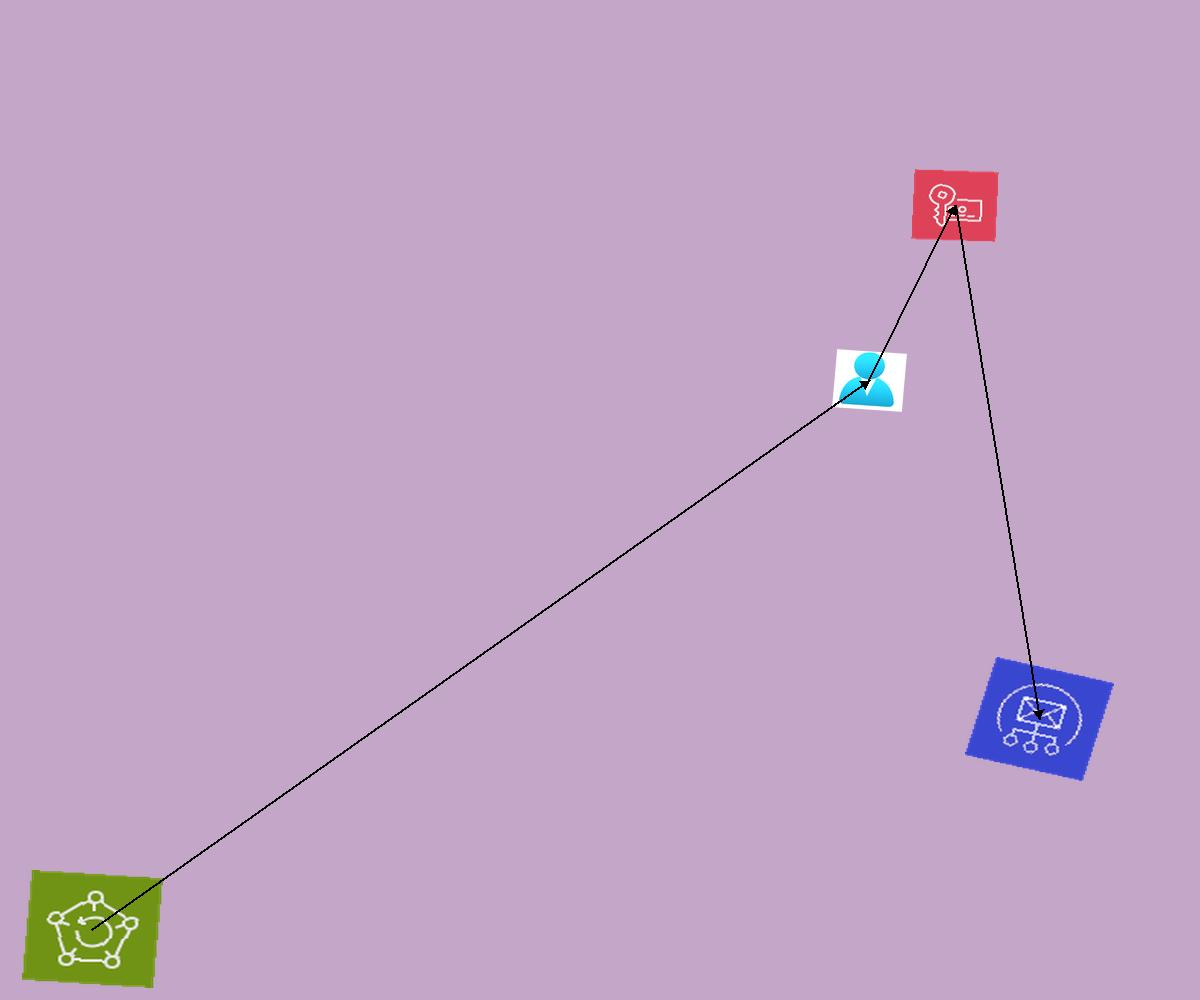AWS-Backup: (22, 870, 163, 988)
AWS-Key-Management-Service: (911, 169, 999, 242)
AWS-Simple-Email-Service: (965, 657, 1114, 781)
Azure_users: (832, 349, 907, 412)
